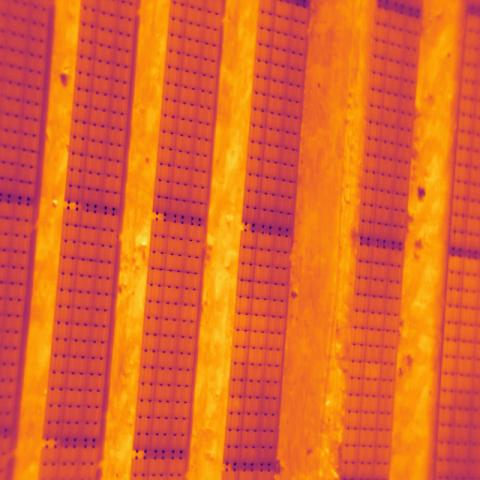fault: (364, 363, 382, 381)
